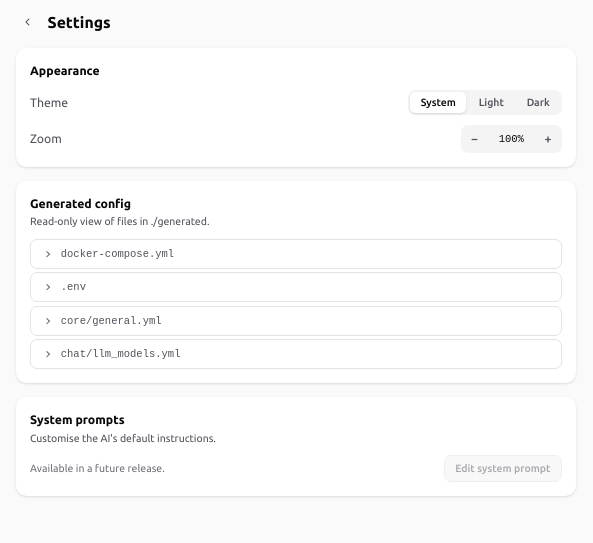
settings/+page.svelte › shows 'not available' error when no readFile prop given
Click the button with test id "toggle-.env": click(48, 287) [31,273,561,301]
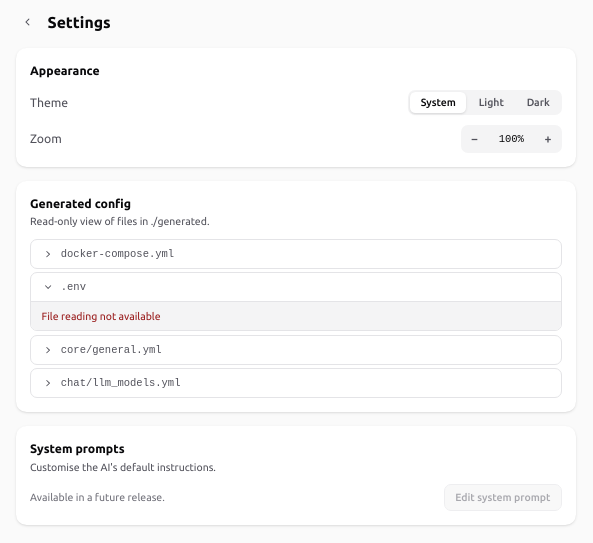
Now the text with test id "error-.env" shows "not available", box [42,310,161,322]
